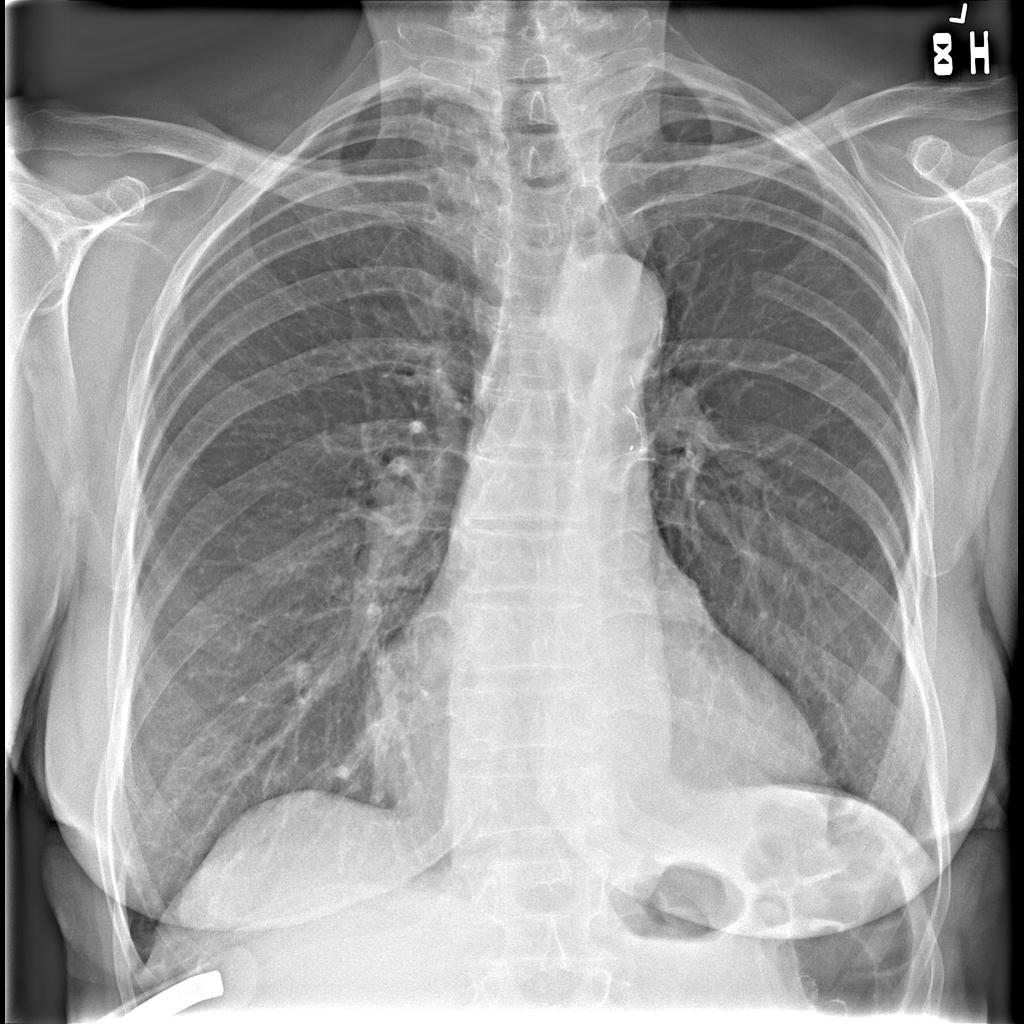Nodule: (284, 651, 321, 697)
